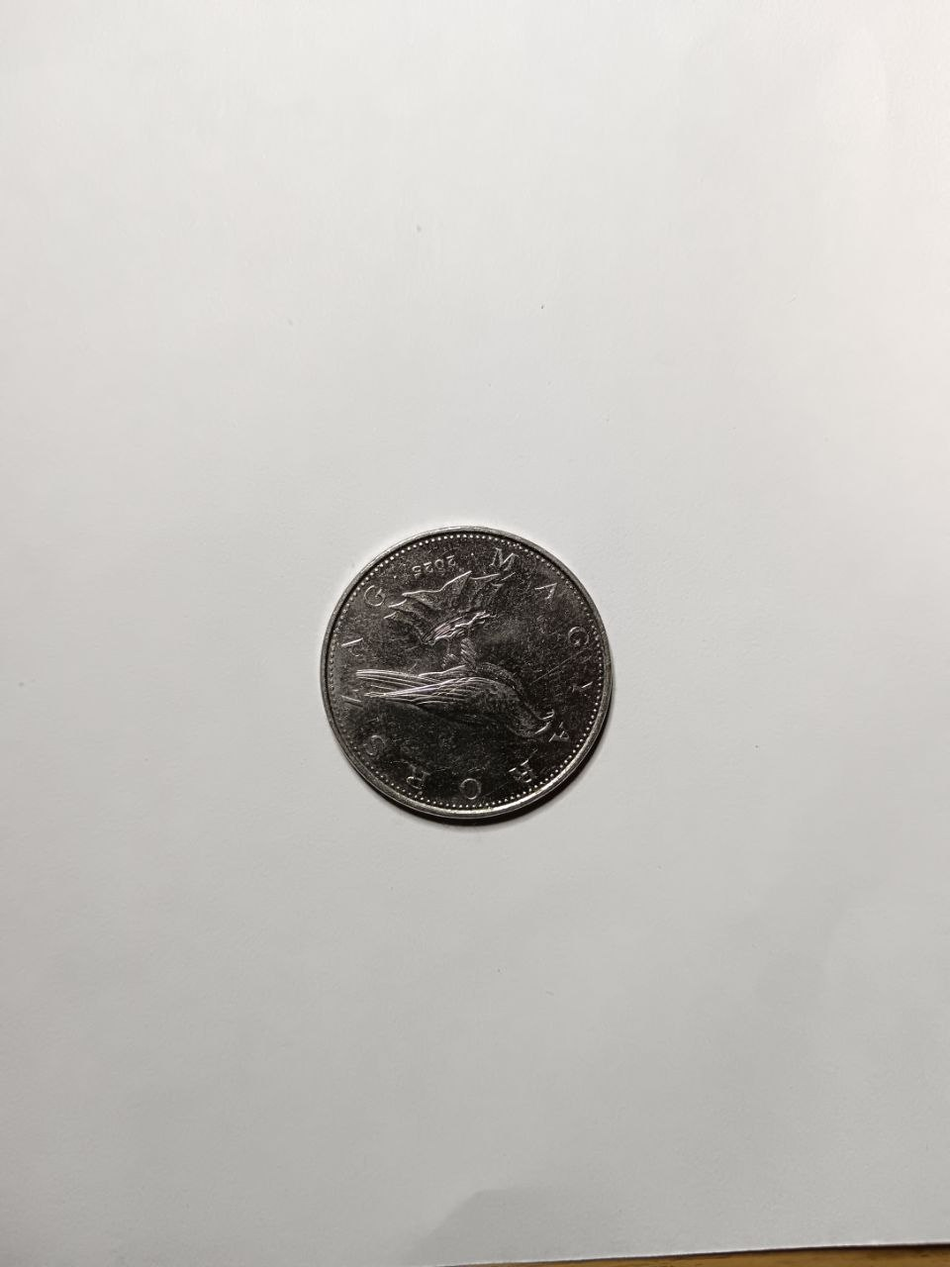50ft: (320, 521, 620, 827)
